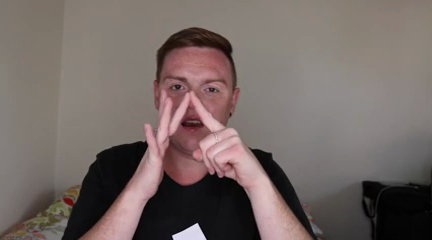I: (134, 87, 263, 191)
